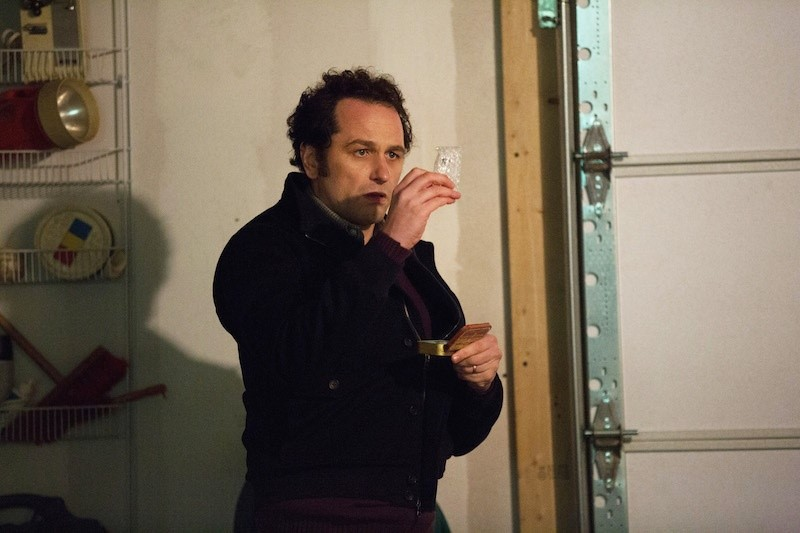face_no_mask: (288, 69, 412, 224)
